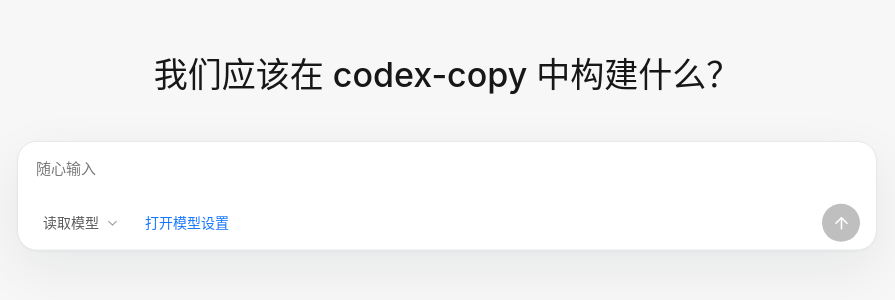
Test: HomePage › opens model settings and shows an error when no model is configured
Check: the button "打开模型设置" is shown, box [135,208,239,238]
In the text box named "输入需求": (447, 180) [34,156,860,204], type "开始对话"
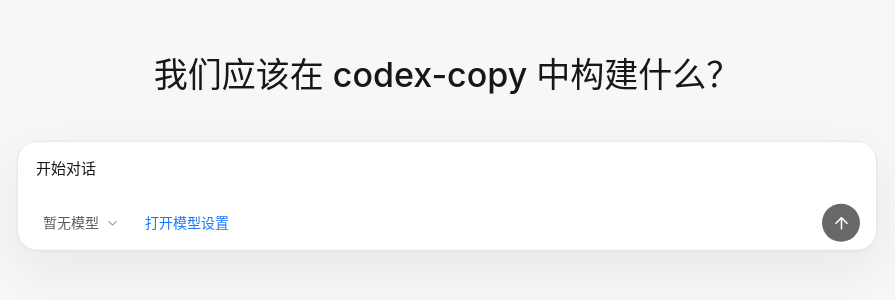
Click the button named "发送": (841, 223) [822,204,860,242]
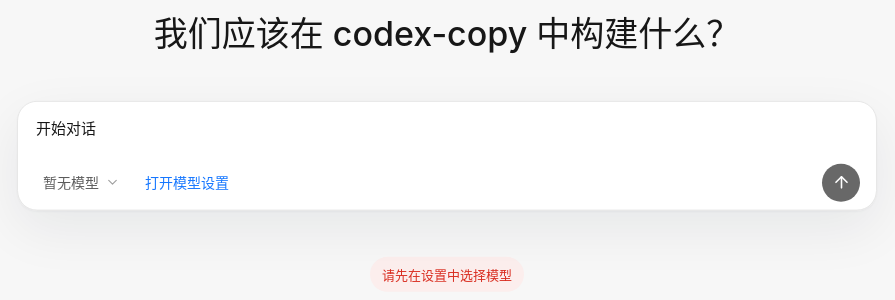
Check: the button "打开模型设置" is shown, box [135,167,239,197]
Check: the message reads "请先在设置中选择模型", box [382,266,512,282]
